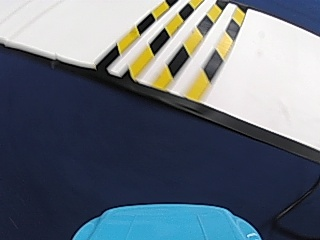bump: (97, 2, 244, 80)
